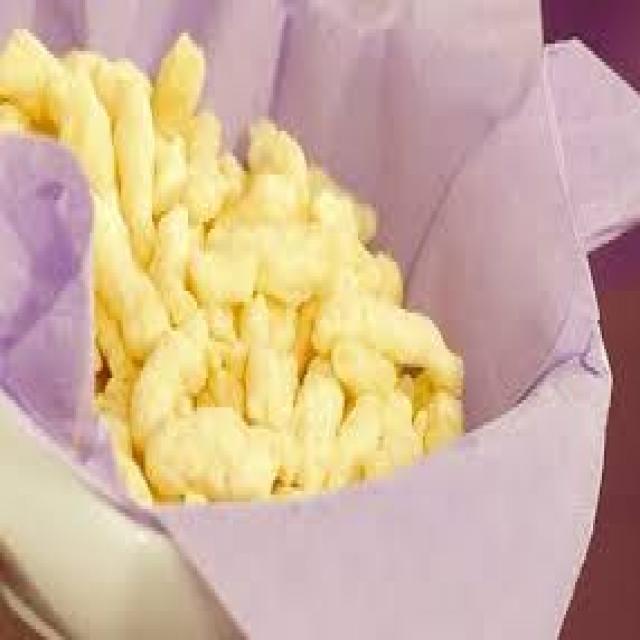Chips packaged: (9, 4, 467, 532)
